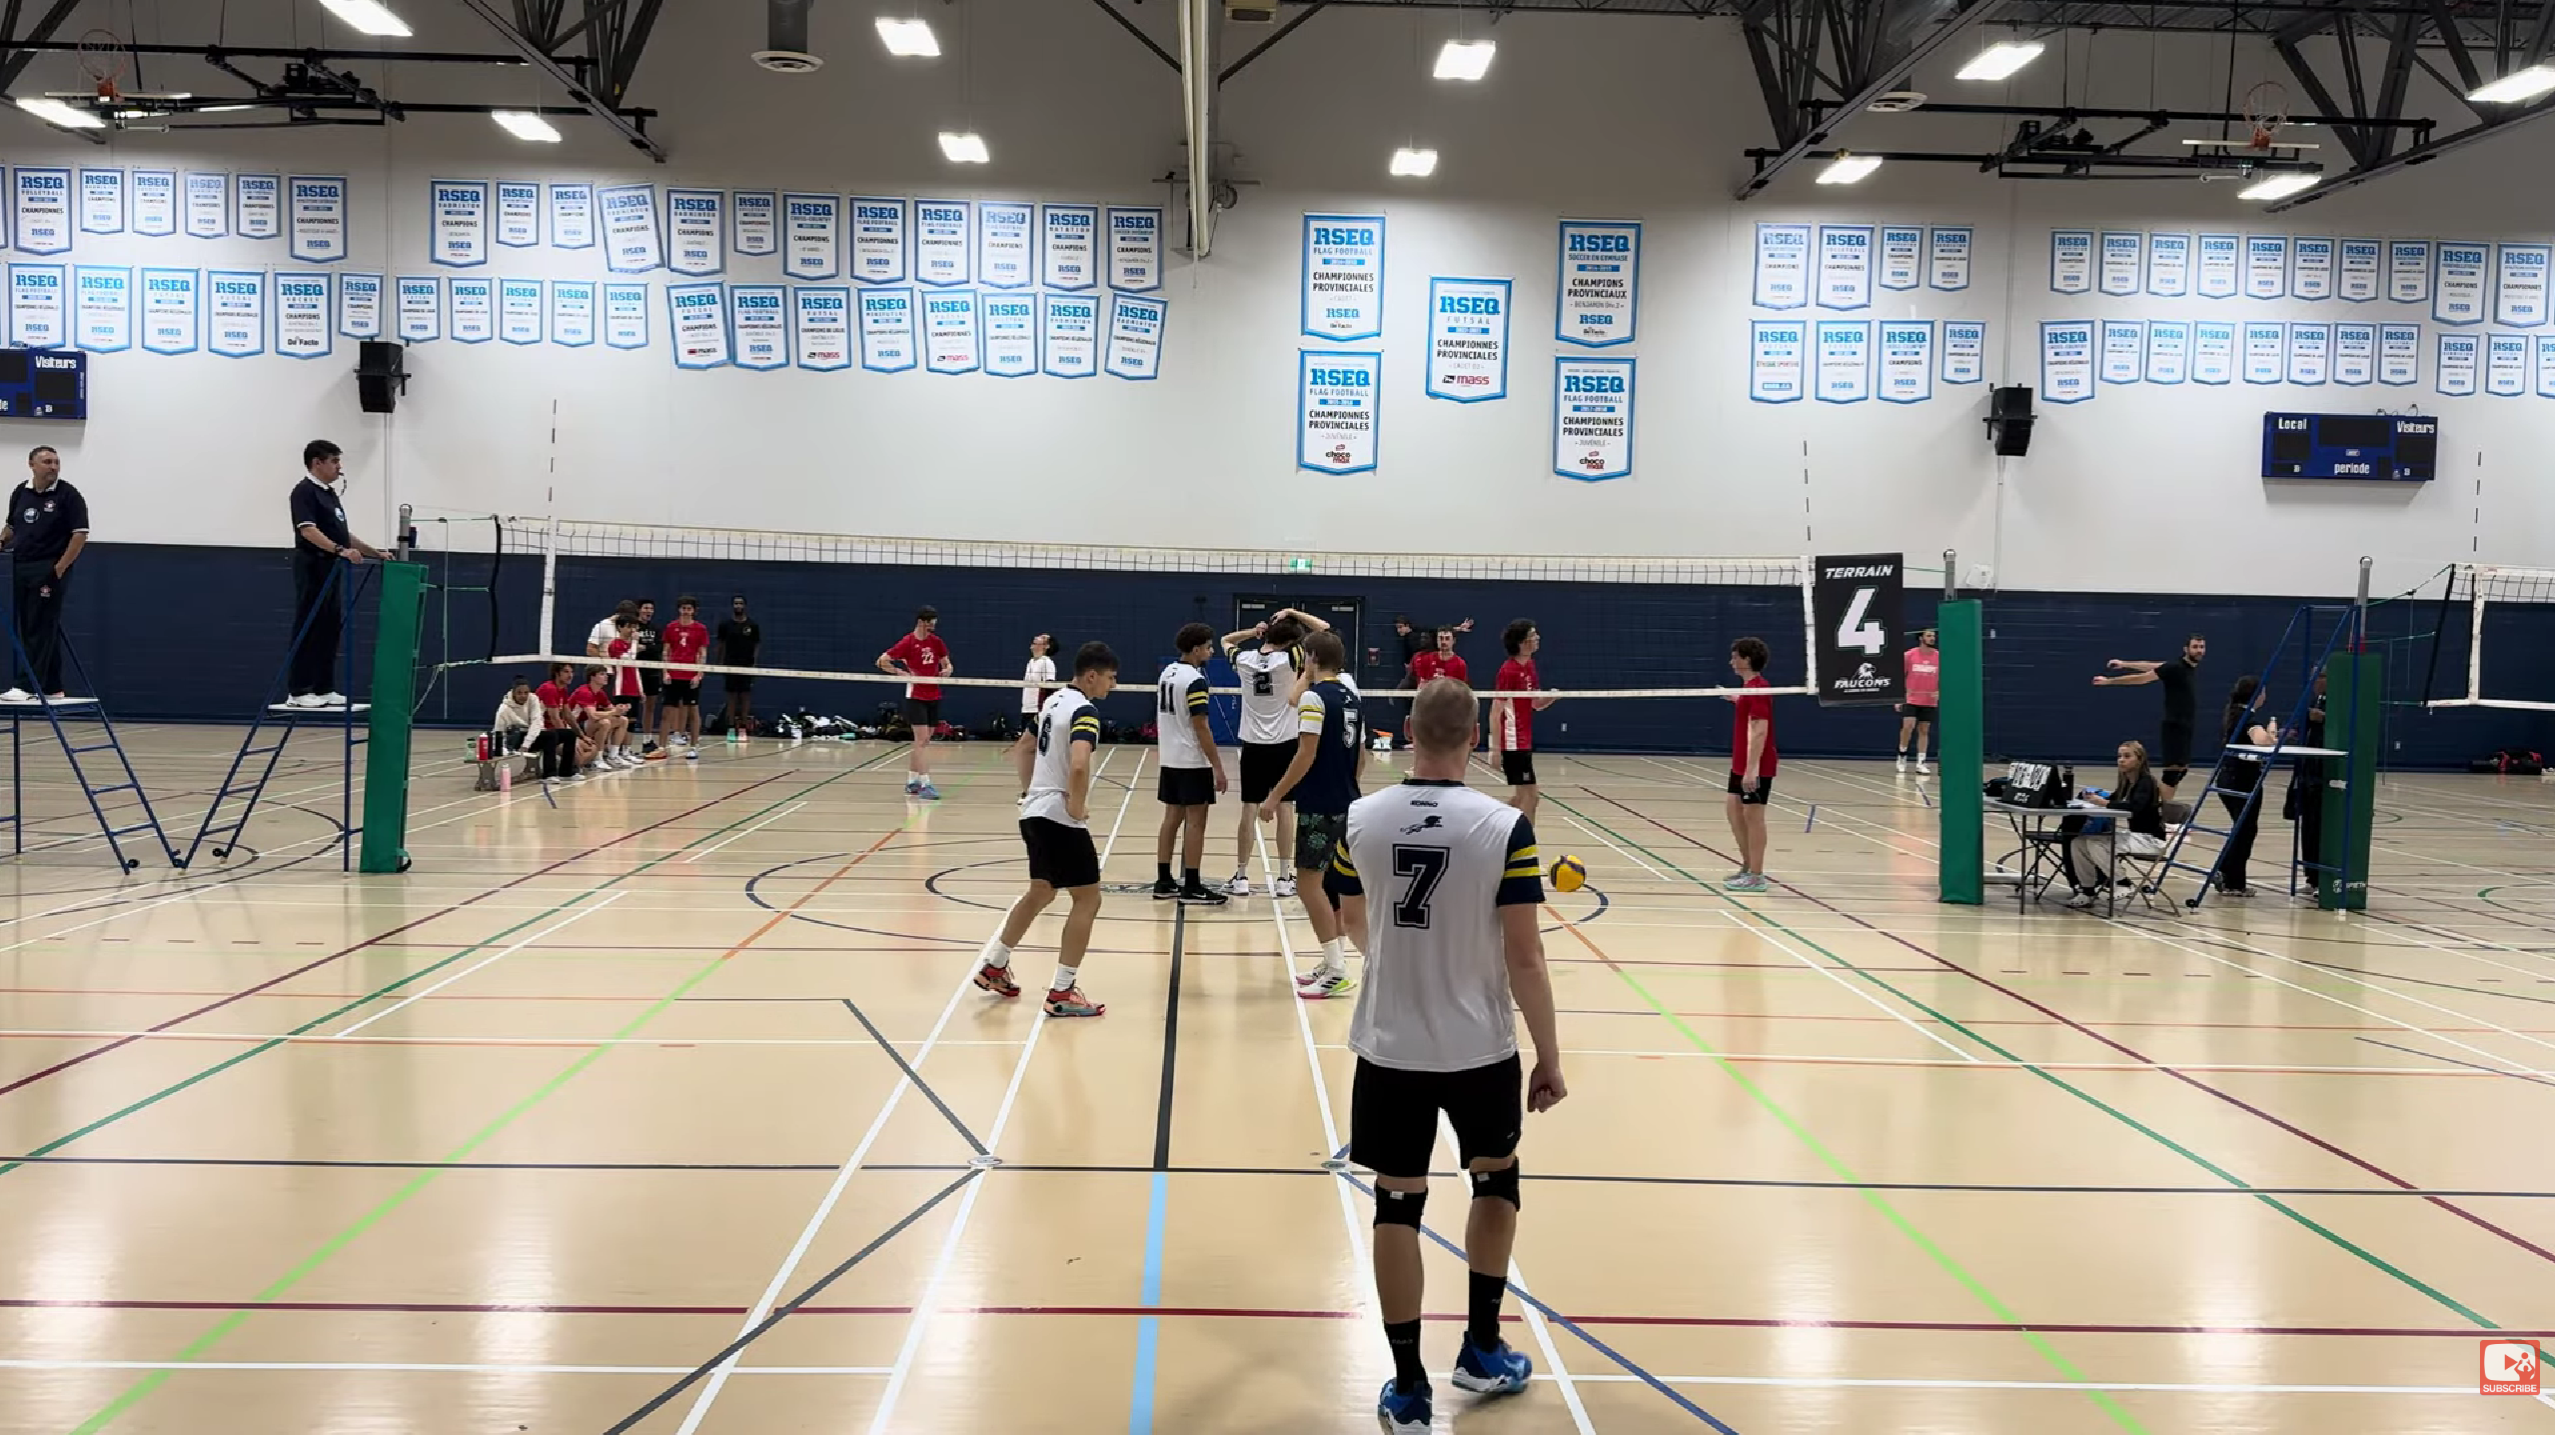Ball: (1548, 854, 1586, 893)
